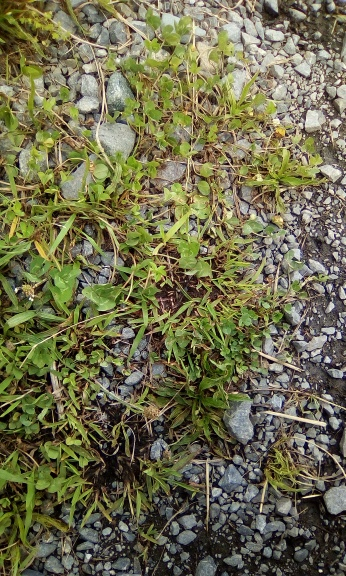4leaf: (148, 261, 168, 284)
